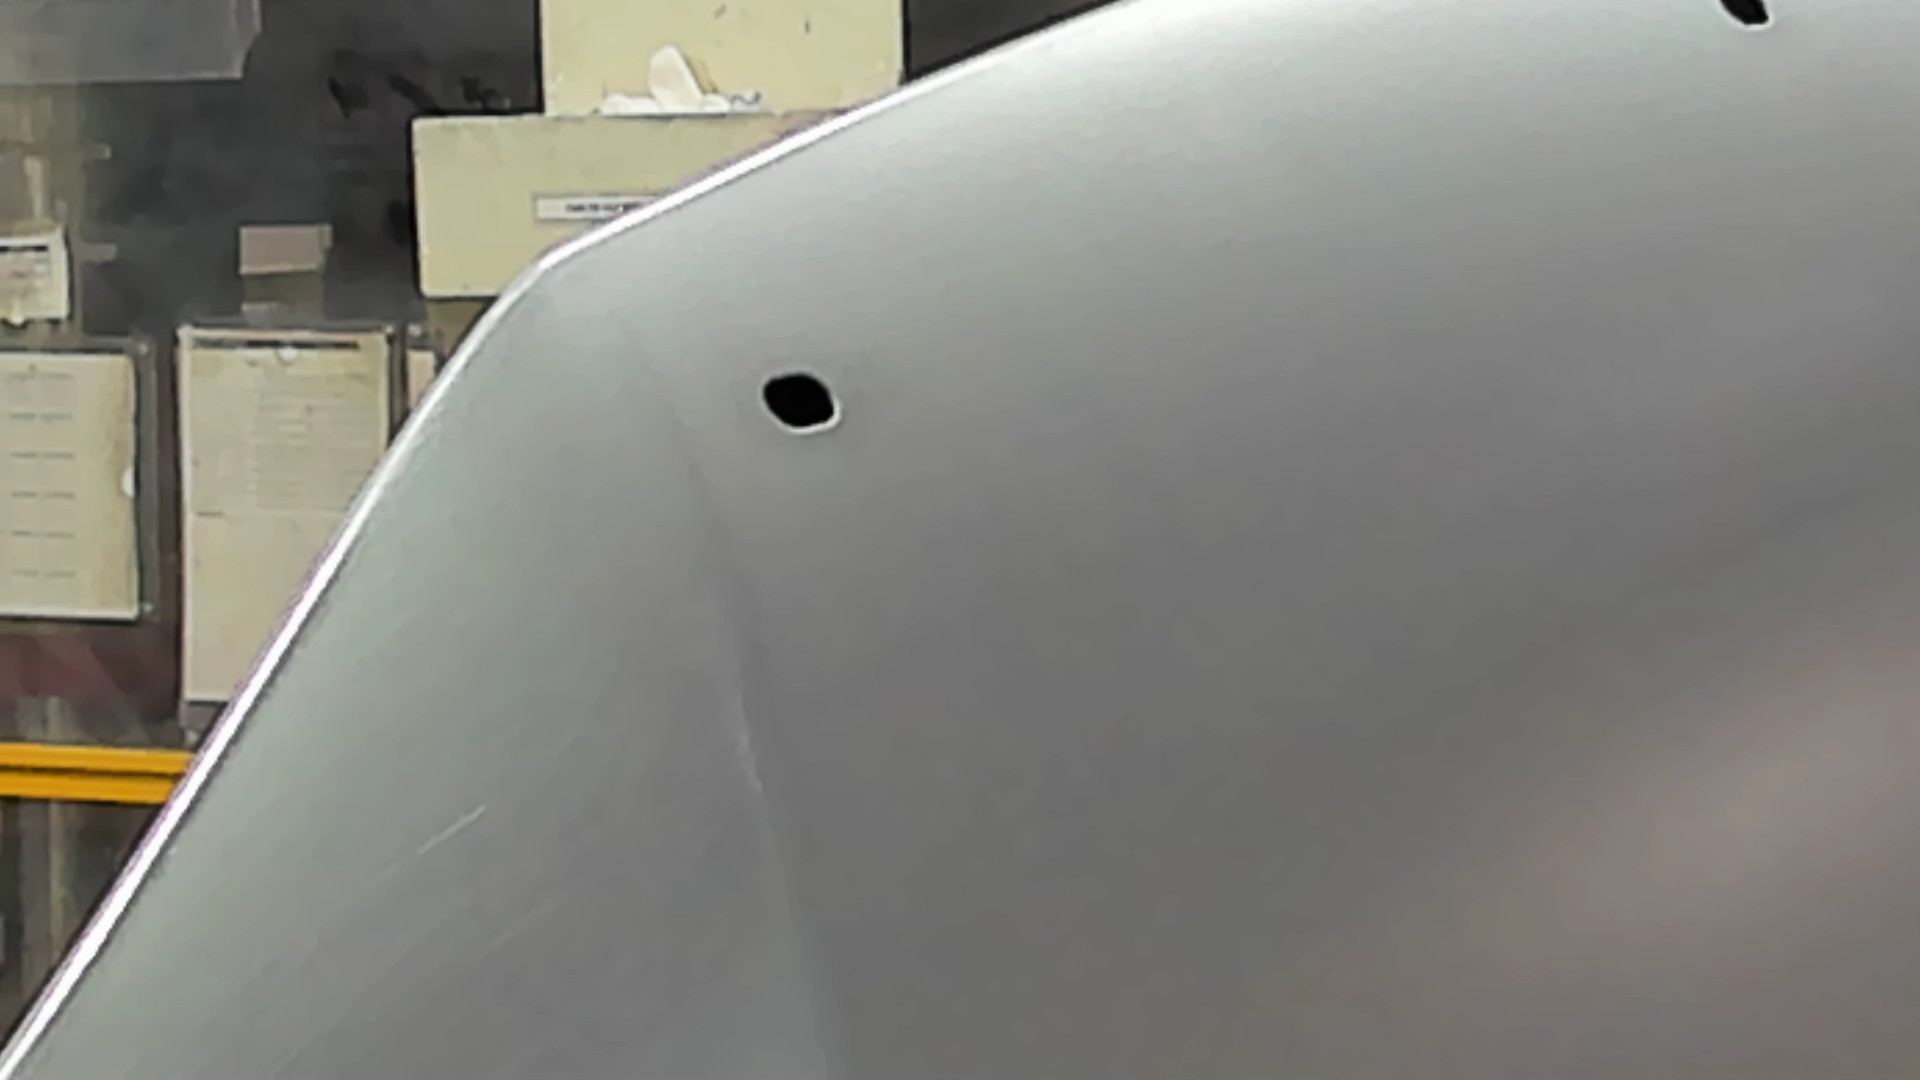amorfo: (756, 365, 845, 444), (1705, 1, 1778, 36)
capo: (957, 165, 1920, 1080)
